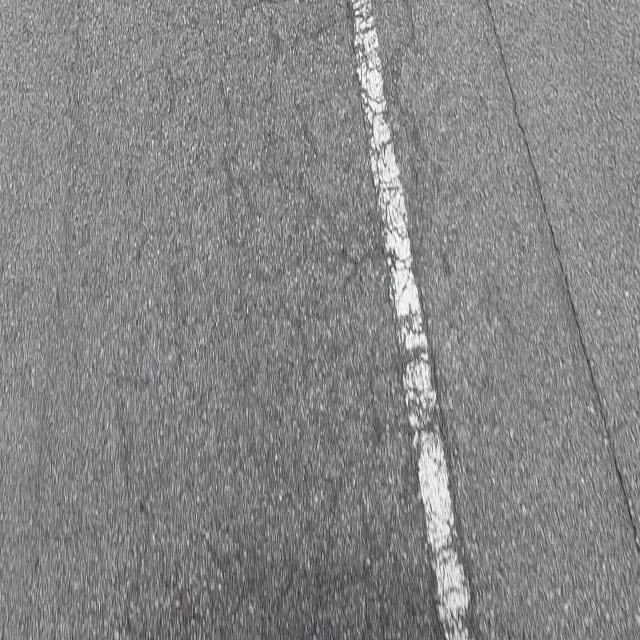Retak-Memanjang: (484, 0, 639, 559)
